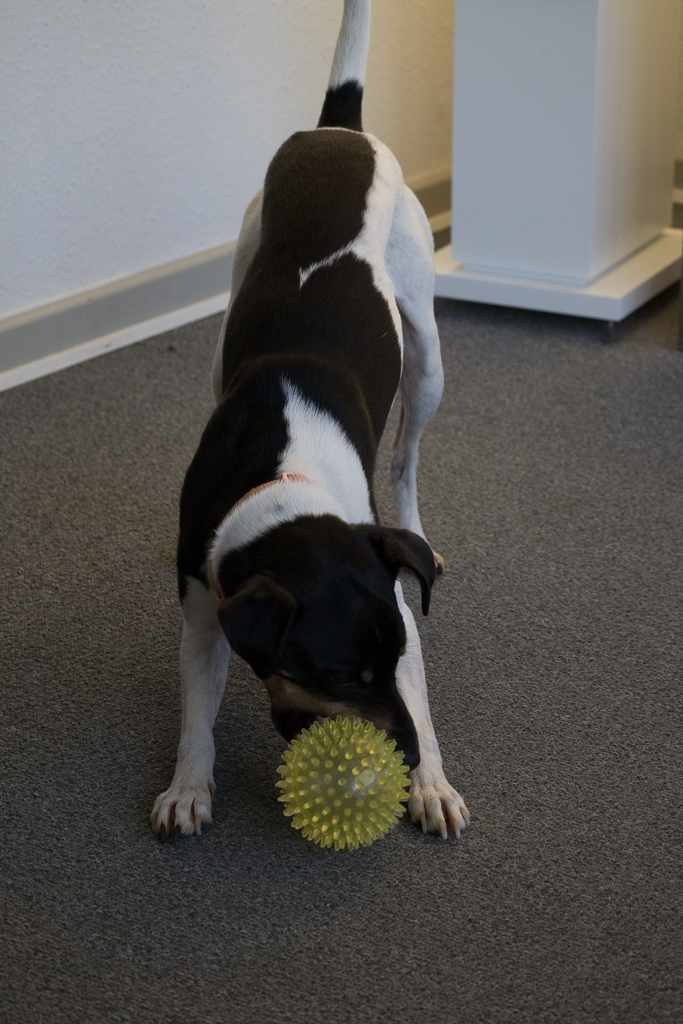Dog: (133, 0, 499, 859)
